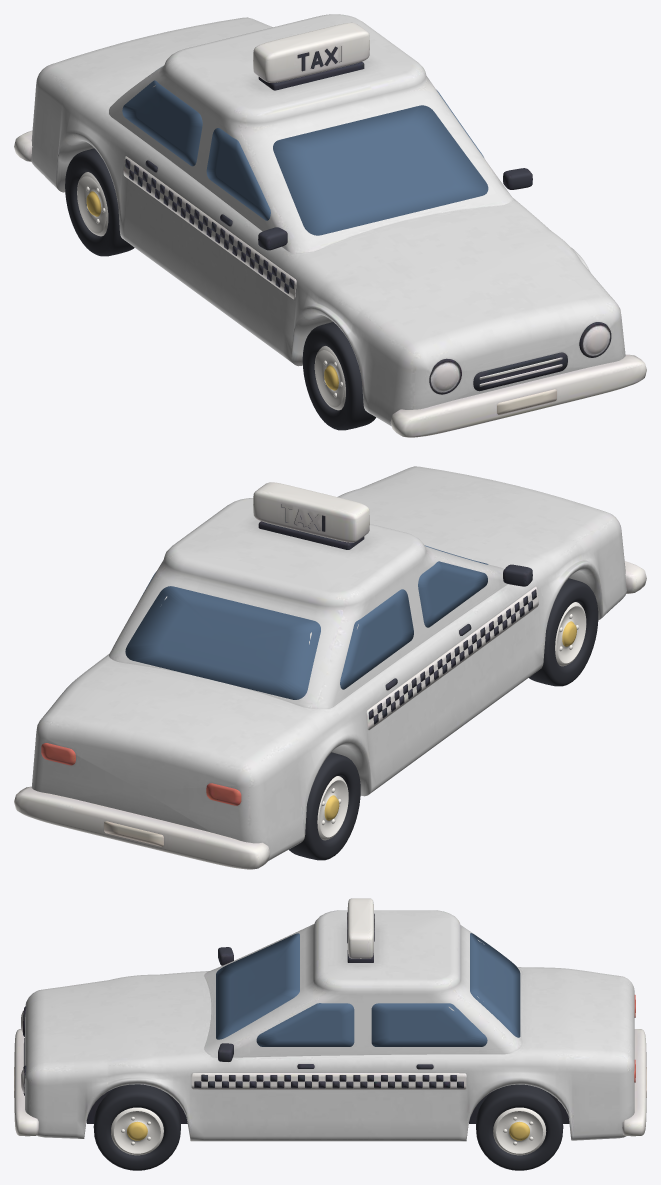
Rendered from taxi.glb.
The picture shows the model from 3 angles, top to bottom: view 1: azimuth 30°, elevation 25°; view 2: azimuth 150°, elevation 25°; view 3: azimuth 270°, elevation 25°; orthographic projection. The views are drawn at different scales.
Parts seen in each view (by area): view 1: taxi_body, taxi_windows, taxi_wheel_fr, taxi_wheel_rr; view 2: taxi_body, taxi_windows, taxi_wheel_rr, taxi_wheel_fr; view 3: taxi_body, taxi_windows, taxi_wheel_fl, taxi_wheel_rl.
Part boxes in pixels (<box>): taxi_body: <box>14,14,646,437</box>; taxi_windows: <box>122,67,488,235</box>; taxi_wheel_fr: <box>302,322,375,430</box>; taxi_wheel_rr: <box>65,148,134,256</box>; taxi_body: <box>14,466,646,869</box>; taxi_windows: <box>125,545,488,699</box>; taxi_wheel_rr: <box>289,752,360,860</box>; taxi_wheel_fr: <box>529,578,598,686</box>; taxi_body: <box>14,898,646,1141</box>; taxi_windows: <box>216,933,520,1046</box>; taxi_wheel_fl: <box>93,1084,180,1170</box>; taxi_wheel_rl: <box>476,1084,563,1170</box>.
Bounding box in the file's own units: 1.9 × 1.74 × 4.79.
5 materials, 1 textured.
